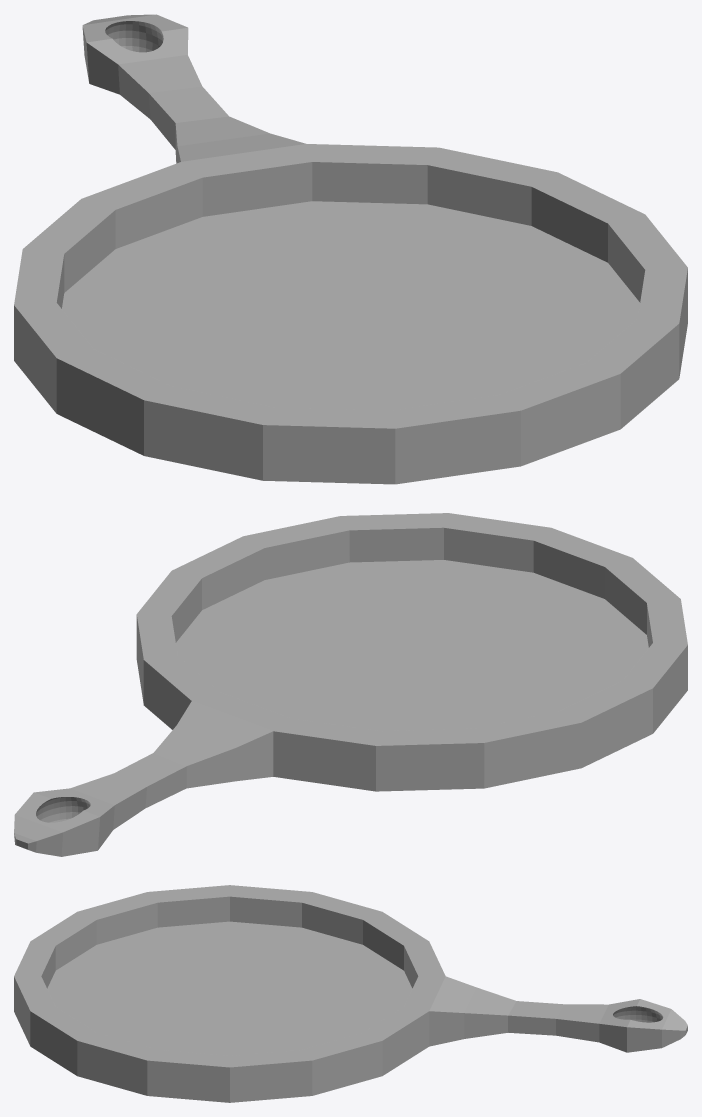
The model's file is Sartén (1).fbx.
3 views of the same model, one above another, from view 1: azimuth 30°, elevation 25°; view 2: azimuth 150°, elevation 25°; view 3: azimuth 270°, elevation 25° (orthographic). The views are drawn at different scales.
Visible parts, largest first — view 1: Cylinder; view 2: Cylinder; view 3: Cylinder.
Boxes of the visible parts, x1=… form: Cylinder: x1=14, y1=14, x2=687, y2=484; Cylinder: x1=14, y1=513, x2=687, y2=856; Cylinder: x1=14, y1=885, x2=687, y2=1102.
Size of the model in its own units: 200 by 18.1 by 312.
Materials: 1 (1 with a texture image).
